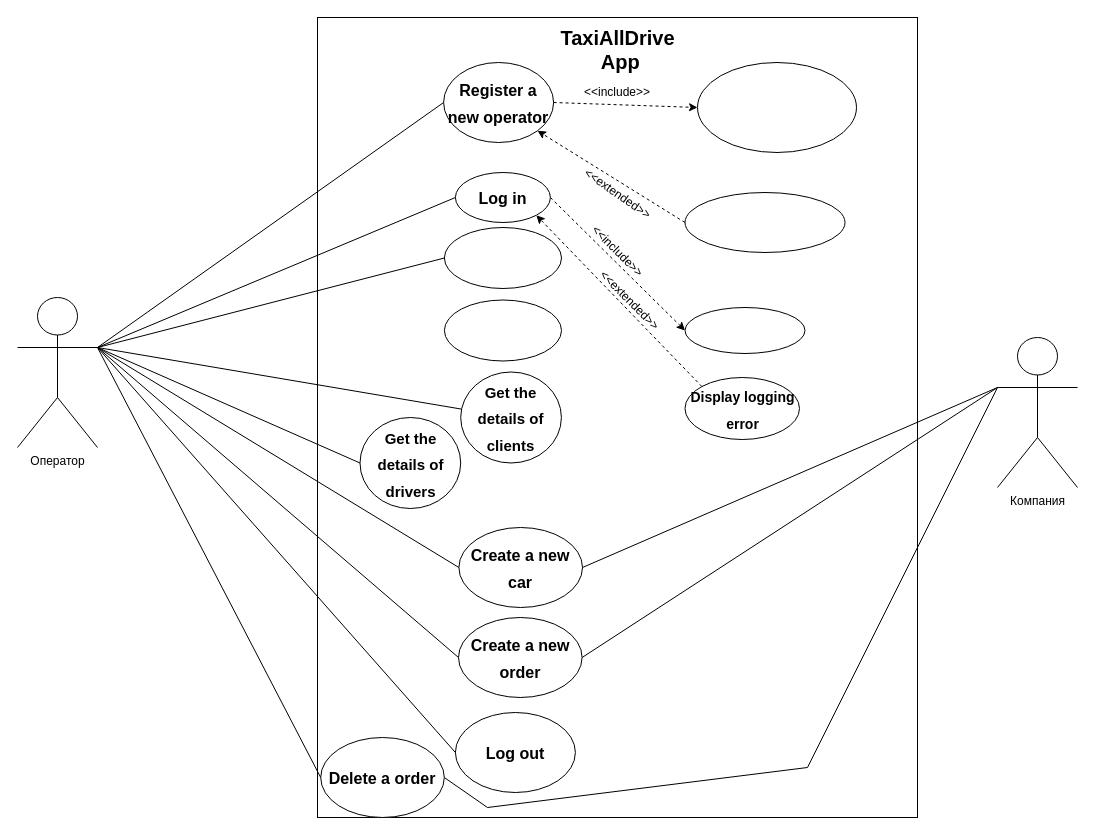
Image size: 1095x835. Some labels were removed from this diagram. The shapes that lost their labels are listed below. From the top down, each one's centre as x and y in pixels, then its label:
pixel 776 107: Verify the new operator is not already exist
pixel 764 222: Display registration error
pixel 502 257: Get the list of Orders
pixel 502 330: Get the list of clients
pixel 744 330: Verify password
